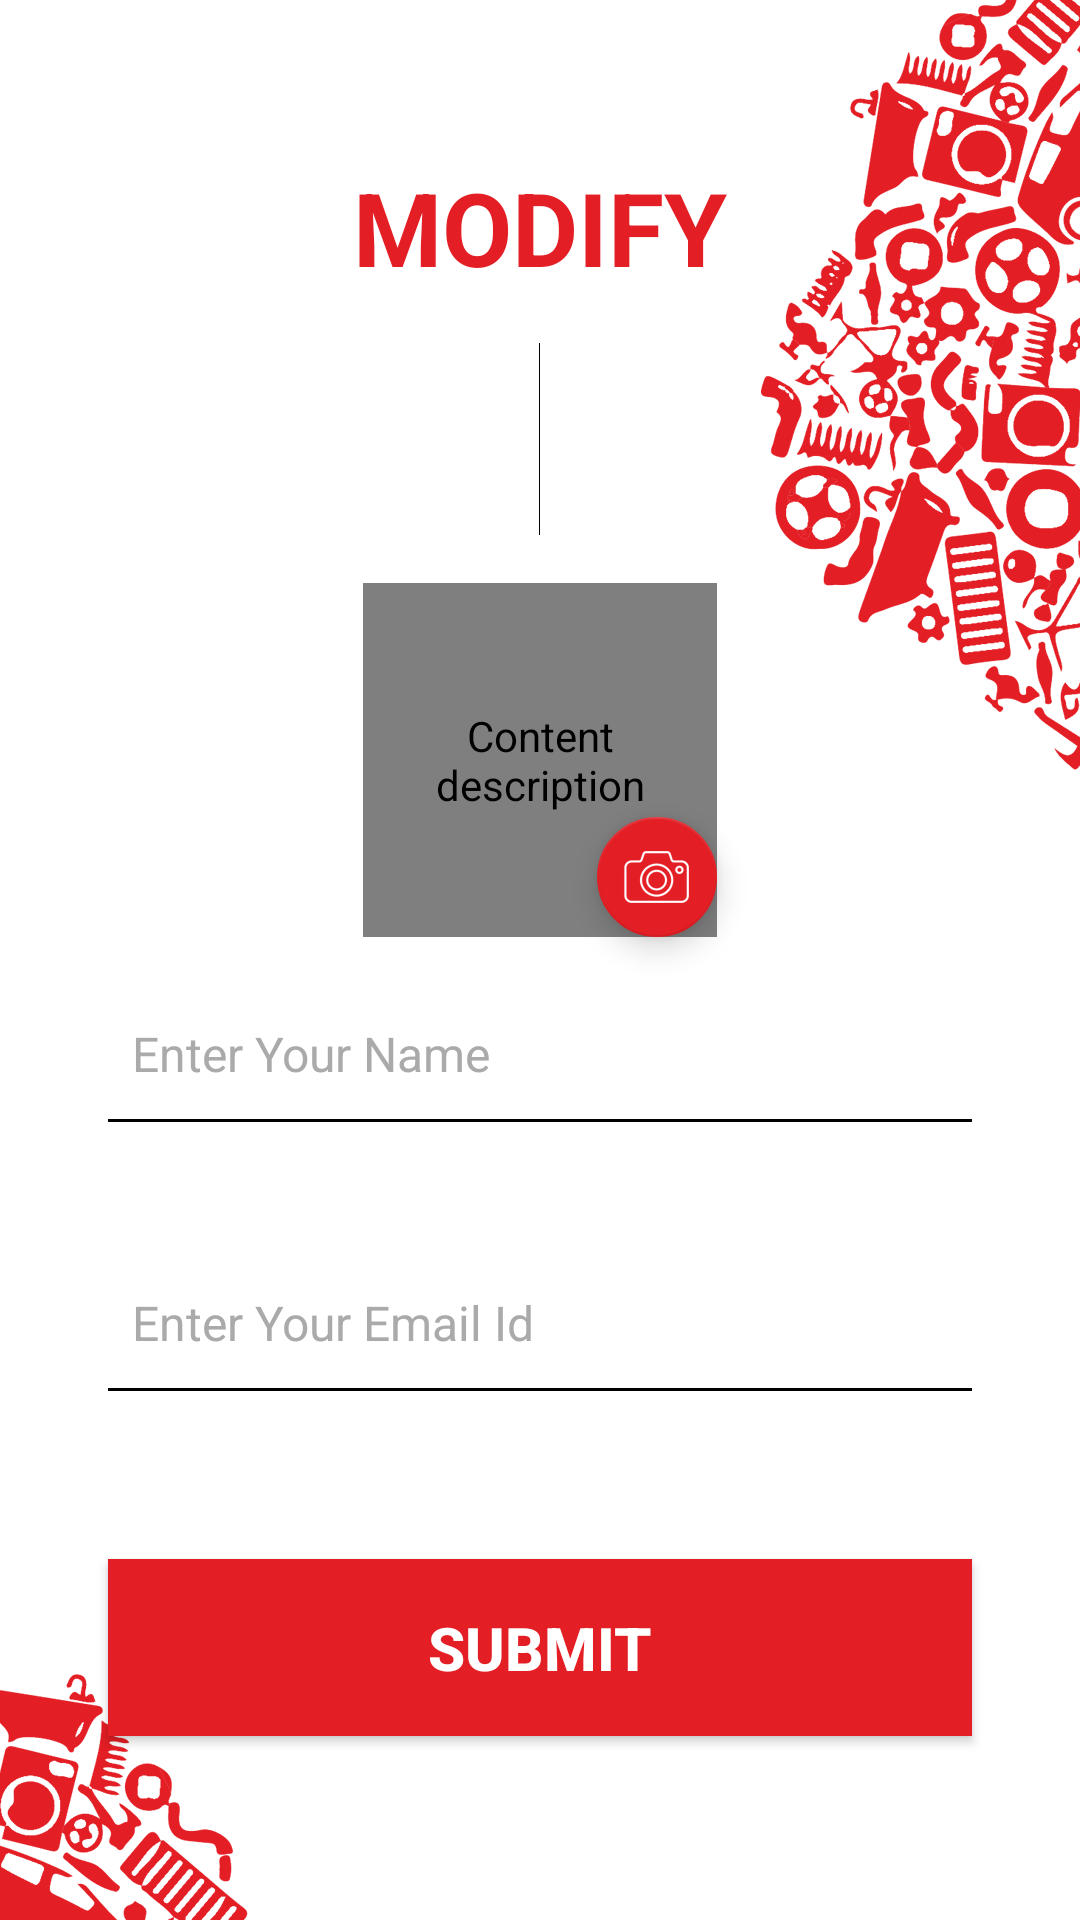

Point at icon controls on the screen. Image size 1080 x 1920, points as point (x, y).
camera: point (657, 877)
